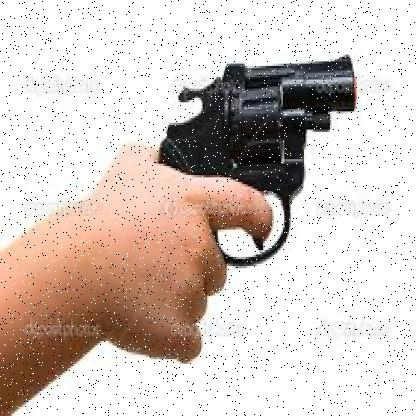pistol: (153, 55, 360, 273)
